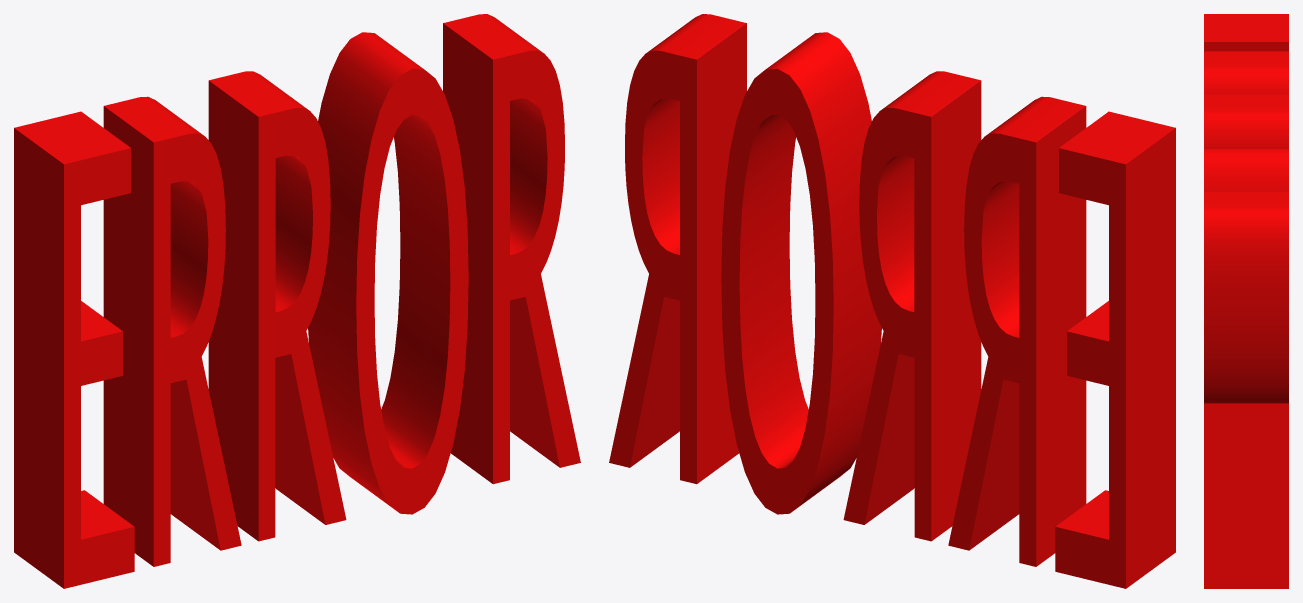
The model's file is error_text.glb.
3 views of the same model, side by side, from view 1: azimuth 30°, elevation 25°; view 2: azimuth 150°, elevation 25°; view 3: azimuth 270°, elevation 25° (orthographic). The views are drawn at different scales.
Visible parts, largest first — view 1: typeMesh1; view 2: typeMesh1; view 3: typeMesh1.
Part boxes in pixels (box(x1,y1,x2,y2)): typeMesh1: box(14, 14, 580, 588); typeMesh1: box(609, 14, 1175, 588); typeMesh1: box(1204, 14, 1288, 588).
Bounding box in the file's own units: 0.0987 × 0.0813 × 0.0165.
1 material, 1 textured.
